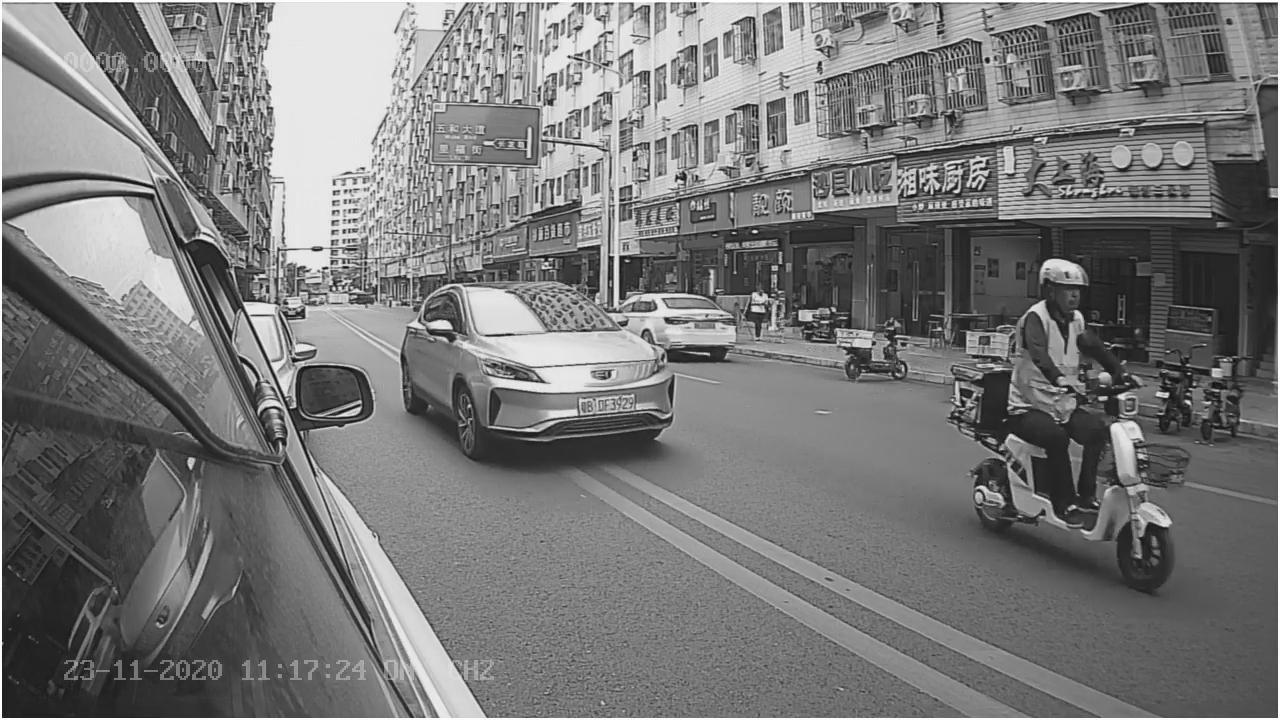person: (1004, 254, 1110, 404)
